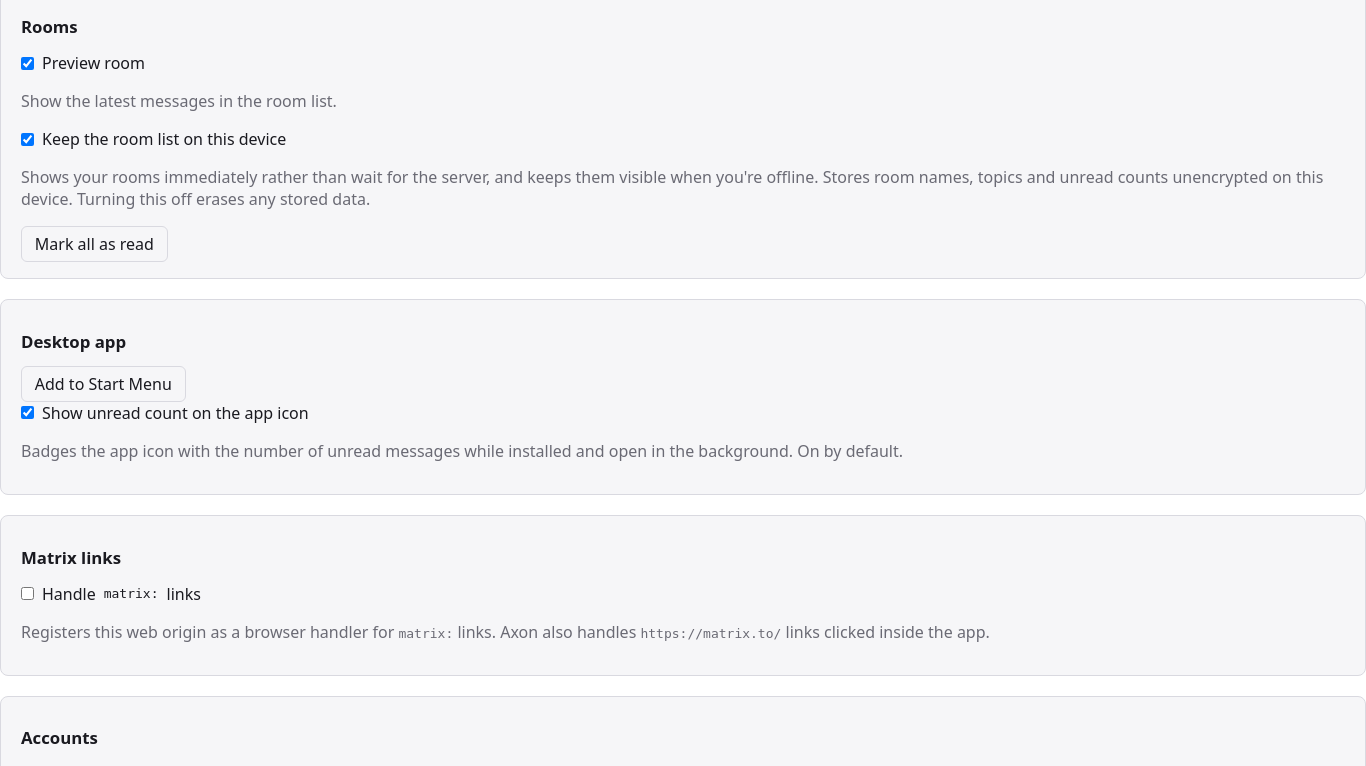
Test: SettingsPage › uses Windows desktop install language when Chrome exposes the install event
(page scrolled)
Check: the heading "Desktop app" is shown, box [21, 330, 126, 352]
Click the button "Add to Start Menu".
click(103, 384)  # box [21, 366, 186, 402]
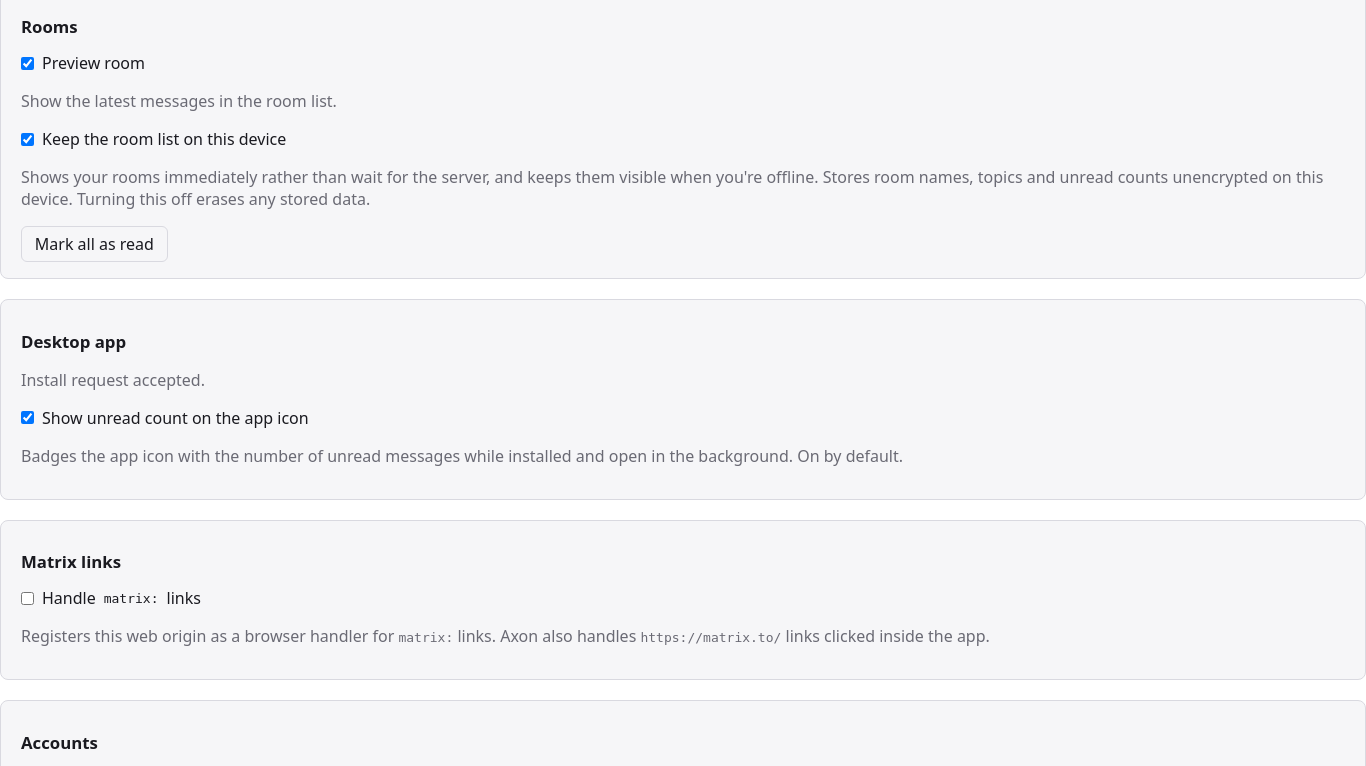
Check: the text "Install request accepted." is shown, box [21, 368, 205, 390]
